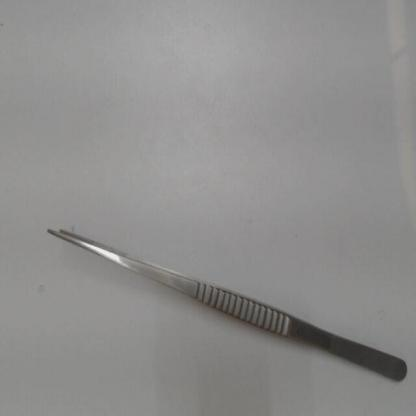DeBakey Dissector: (41, 211, 407, 403)
